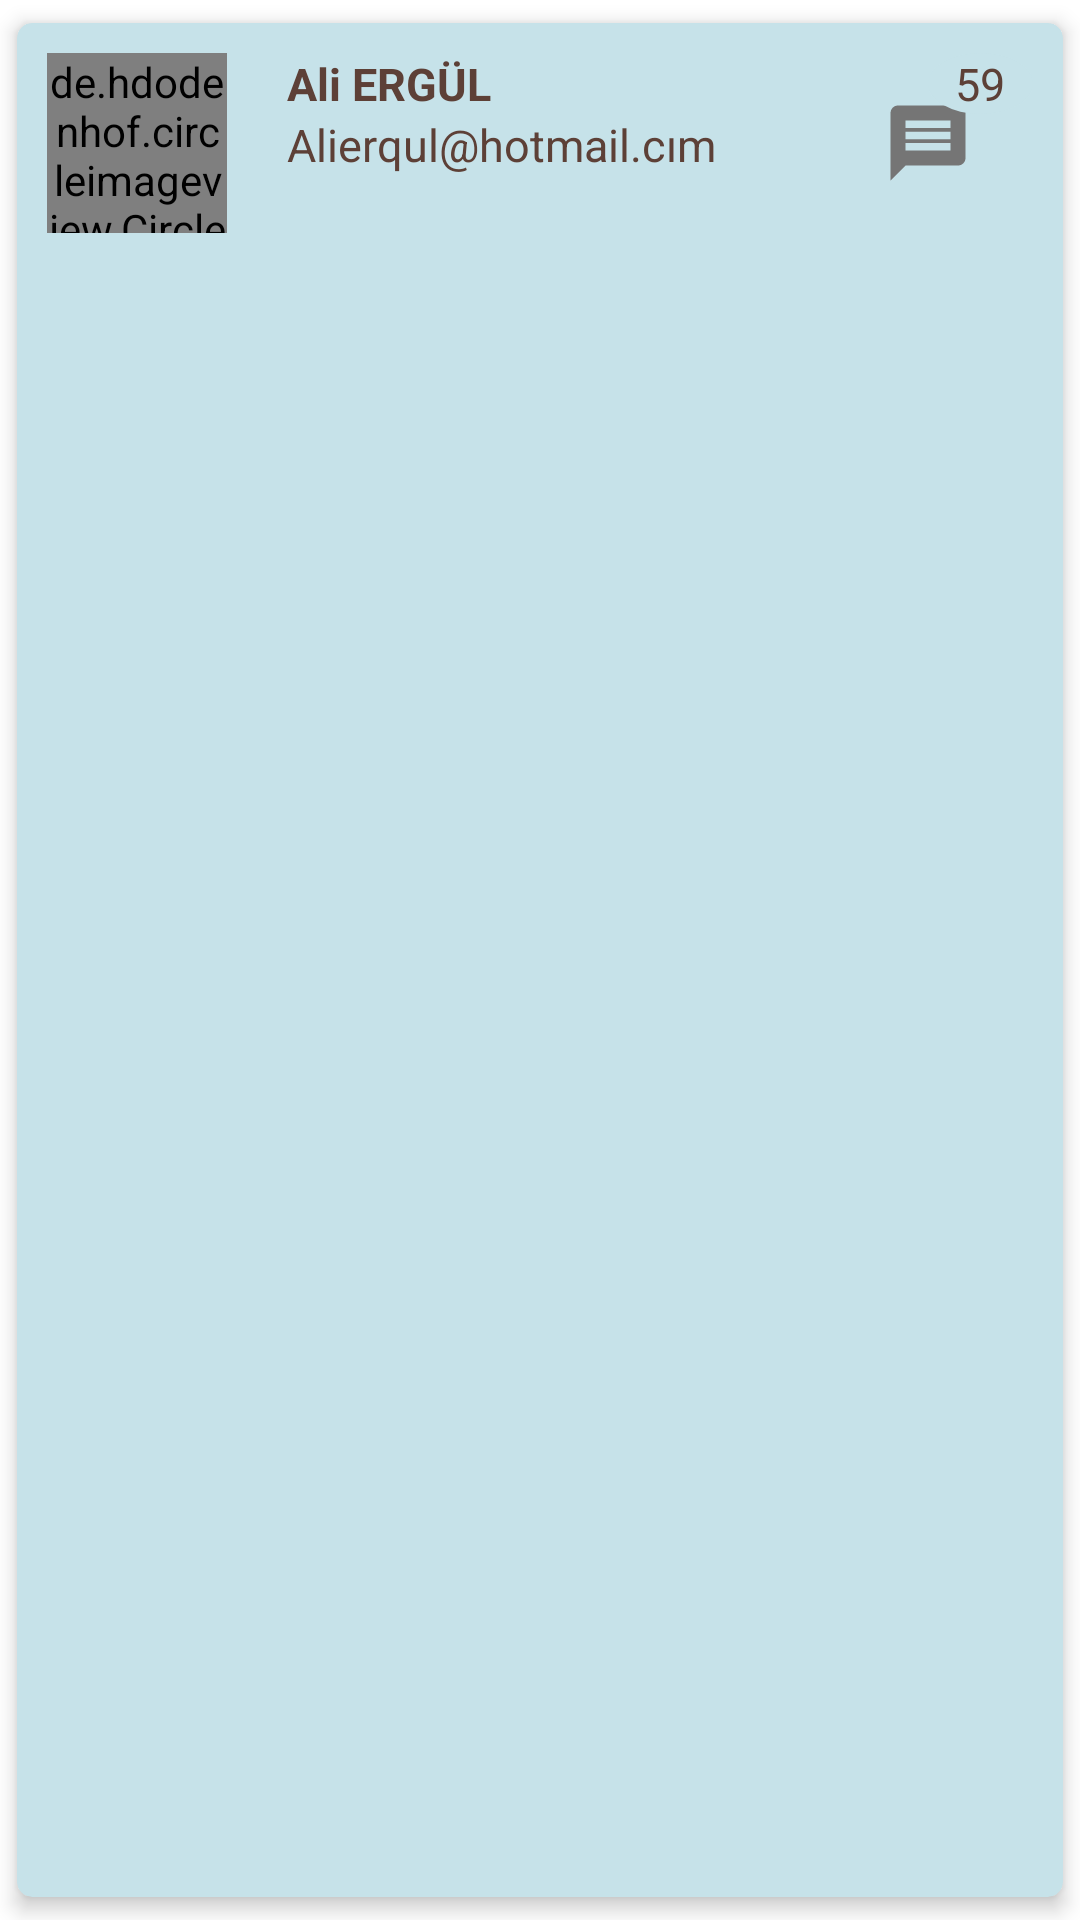

Where to tap for icons on this 1080 × 1920 app screen, as (x=x, y=y):
message: (x=928, y=142)
